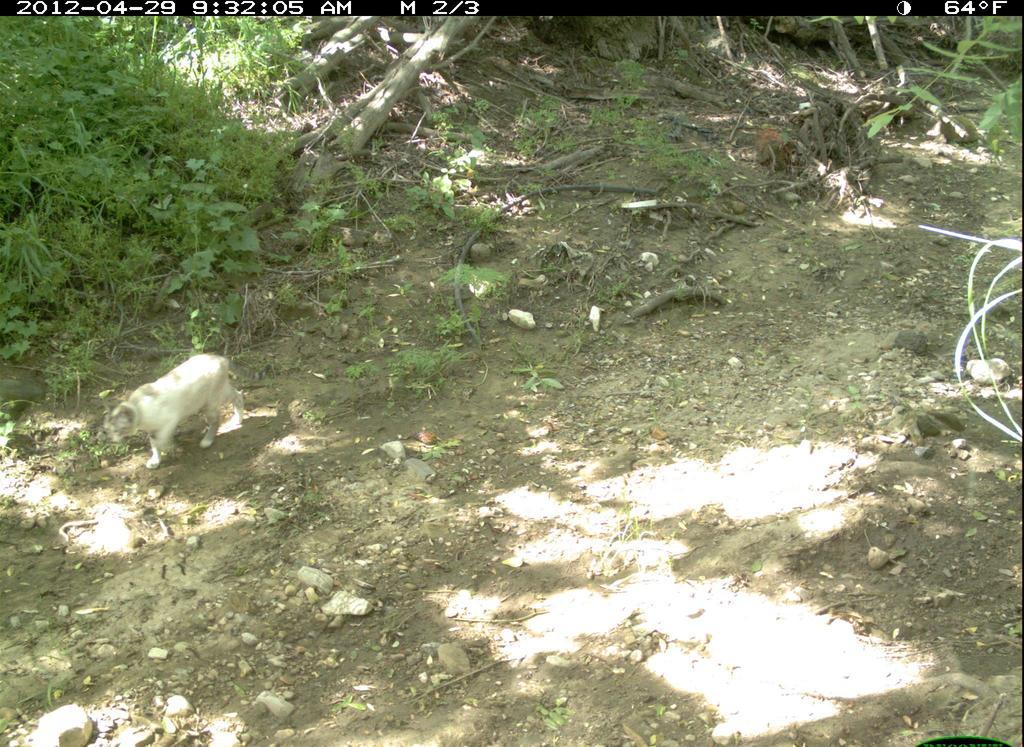cat: (88, 335, 255, 487)
